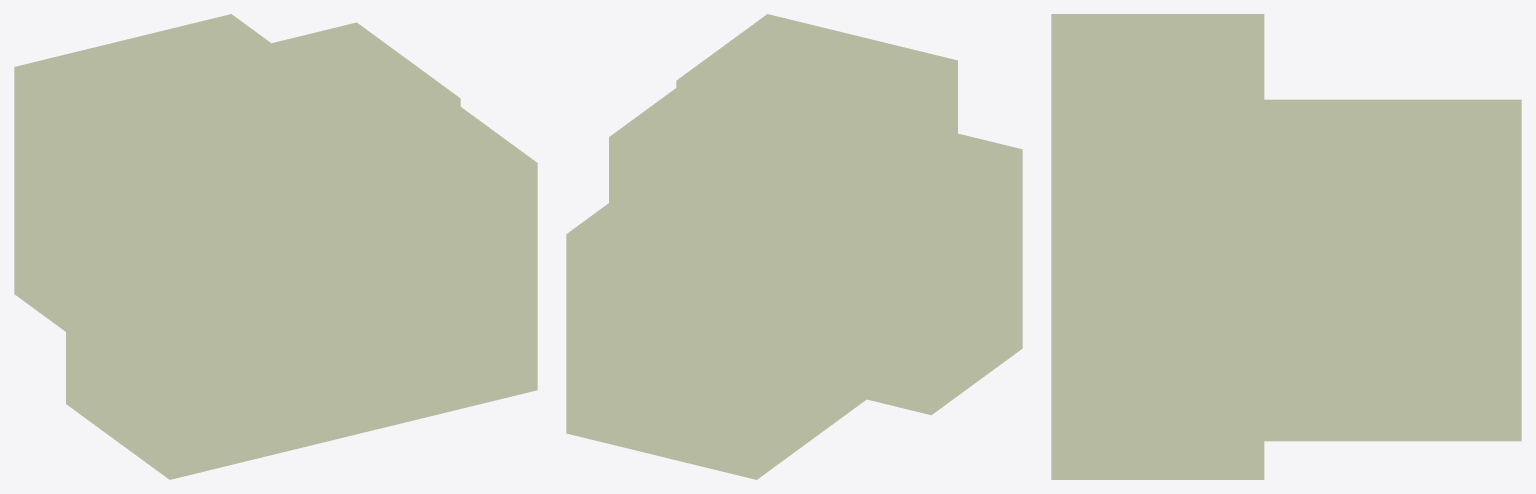
Rendered from space-ship.dae.
3 renders of one model, left to right at view 1: azimuth 30°, elevation 25°; view 2: azimuth 150°, elevation 25°; view 3: azimuth 270°, elevation 25°, orthographic. The views are drawn at different scales.
Visible parts, largest first — view 1: Cube1-0; view 2: Cube1-0; view 3: Cube1-0.
Boxes of the visible parts, box(x1,y1,x2,y2) form: Cube1-0: box(14, 14, 537, 479); Cube1-0: box(566, 14, 1022, 479); Cube1-0: box(1051, 14, 1521, 479).
Size of the model in its own units: 3.39 by 2.73 by 3.66.
